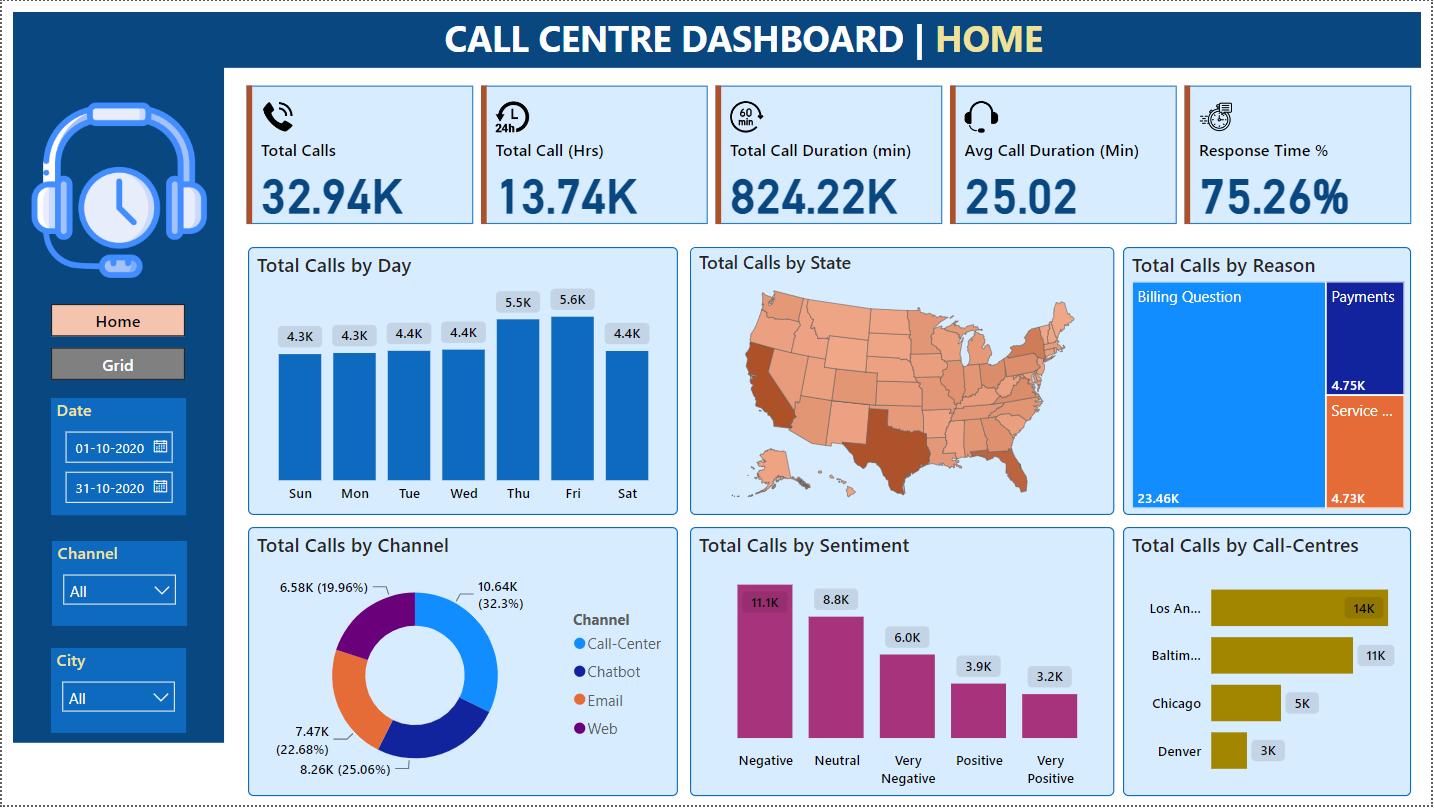

What the dashboard file says about the page in this screenshot:
{"tool":"powerbi","page":{"name":"Home","canvas":[1280,720],"ordinal":0},"visuals":[{"type":"shape","box":[9.9,9.9,1260.9,50.1],"z":0},{"type":"shape","box":[10.1,55.4,189.5,608.8],"z":1000},{"type":"cardVisual","fields":{"Data":["Call Center_Call Center.Total Calls","Call Center_Call Center.Total Call (Hrs)","Call Center_Call Center.Total Call Duration (min)","Call Center_Call Center.Avg Call Duration (Min)","Call Center_Call Center.Response Time %"]},"box":[213.7,70.6,1057.3,134],"z":2000},{"type":"textbox","box":[391.3,5.4,651.9,58.2],"z":3000},{"type":"clusteredColumnChart","fields":{"Category":["Date Table.Day"],"Y":["Call Center_Call Center.Total Calls"]},"box":[220.7,220.7,385,239.9],"z":4000},{"type":"shapeMap","fields":{"Category":["Call Center_Call Center.State"],"Value":["Call Center_Call Center.Total Calls"]},"box":[616.1,220.3,379.7,240],"z":5000},{"type":"treemap","fields":{"Group":["Call Center_Call Center.Reason"],"Values":["Call Center_Call Center.Total Calls"]},"box":[1003.9,220.3,257.9,240],"z":6000},{"type":"donutChart","fields":{"Category":["Call Center_Call Center.Channel"],"Y":["Call Center_Call Center.Total Calls"]},"box":[220.7,470.7,385,240.9],"z":7000},{"type":"columnChart","fields":{"Category":["Call Center_Call Center.Sentiment"],"Y":["Call Center_Call Center.Total Calls"]},"box":[616,471,380,241],"z":8000},{"type":"barChart","fields":{"Category":["Call Center_Call Center.Call-Centres City"],"Y":["Call Center_Call Center.Total Calls"]},"box":[1004,471,258,241],"z":9000},{"type":"slicer","title":"Date","fields":{"Values":["Date Table.Date"]},"box":[43.9,355.5,120.9,104.8],"z":10000},{"type":"slicer","title":"Channel","fields":{"Values":["Call Center_Call Center.Channel"]},"box":[44.8,483.6,120.9,76.1],"z":11000},{"type":"slicer","title":"City","fields":{"Values":["Call Center_Call Center.City"]},"box":[43.9,579.4,120.9,76.1],"z":12000},{"type":"image","box":[21.2,85.7,167.3,167.3],"z":12001},{"type":"pageNavigator","box":[43.9,271.3,120,69],"z":12002}]}

Visuals, with their boxes in screenshot pixels (x1, y1, x2, y2), scaled from the page's 1280x720 canvas onto the 1434x808 screenshot:
shape: (x1=11, y1=11, x2=1424, y2=67)
shape: (x1=11, y1=62, x2=224, y2=745)
cardVisual - Call Center_Call Center.Total Calls x Call Center_Call Center.Total Call (Hrs): (x1=239, y1=79, x2=1424, y2=230)
textbox: (x1=438, y1=6, x2=1169, y2=71)
clusteredColumnChart - Date Table.Day x Call Center_Call Center.Total Calls: (x1=247, y1=248, x2=679, y2=517)
shapeMap - Call Center_Call Center.State x Call Center_Call Center.Total Calls: (x1=690, y1=247, x2=1116, y2=517)
treemap - Call Center_Call Center.Reason x Call Center_Call Center.Total Calls: (x1=1125, y1=247, x2=1414, y2=517)
donutChart - Call Center_Call Center.Channel x Call Center_Call Center.Total Calls: (x1=247, y1=528, x2=679, y2=799)
columnChart - Call Center_Call Center.Sentiment x Call Center_Call Center.Total Calls: (x1=690, y1=529, x2=1116, y2=799)
barChart - Call Center_Call Center.Call-Centres City x Call Center_Call Center.Total Calls: (x1=1125, y1=529, x2=1414, y2=799)
"Date" slicer: (x1=49, y1=399, x2=185, y2=517)
"Channel" slicer: (x1=50, y1=543, x2=186, y2=628)
"City" slicer: (x1=49, y1=650, x2=185, y2=736)
image: (x1=24, y1=96, x2=211, y2=284)
pageNavigator: (x1=49, y1=304, x2=184, y2=382)
